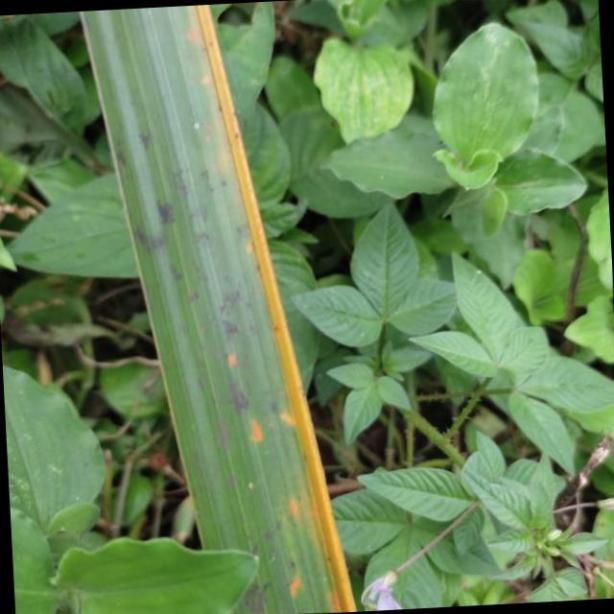Megnesium: (82, 0, 363, 614)
